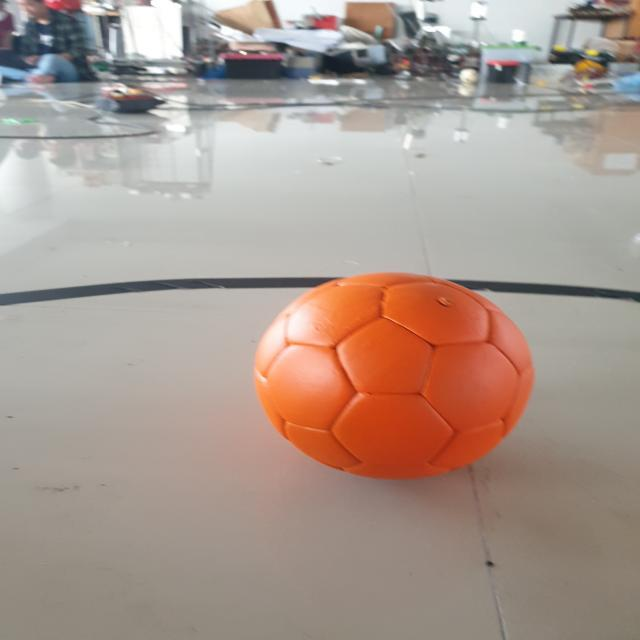bola: (210, 245, 564, 530)
